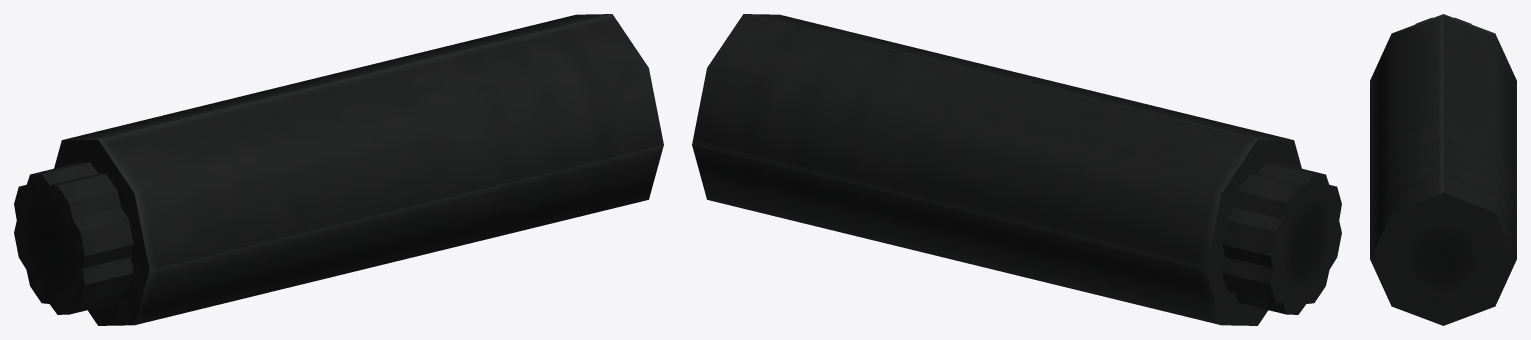
The model's file is suppressor_mp_2.obj.
The picture shows the model from 3 angles, left to right: view 1: azimuth 30°, elevation 25°; view 2: azimuth 150°, elevation 25°; view 3: azimuth 270°, elevation 25°; orthographic projection. The views are drawn at different scales.
Parts seen in each view (by area): view 1: suppressor_mp_2; view 2: suppressor_mp_2; view 3: suppressor_mp_2.
Part boxes in pixels (<box>): suppressor_mp_2: <box>14,14,663,325</box>; suppressor_mp_2: <box>692,14,1341,325</box>; suppressor_mp_2: <box>1370,14,1516,325</box>.
Bounding box in the file's own units: 4.45 × 1.41 × 1.41.
1 material, 1 textured.
